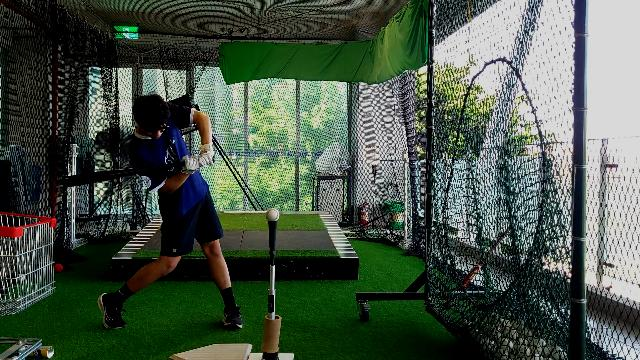bat: (63, 162, 184, 188)
